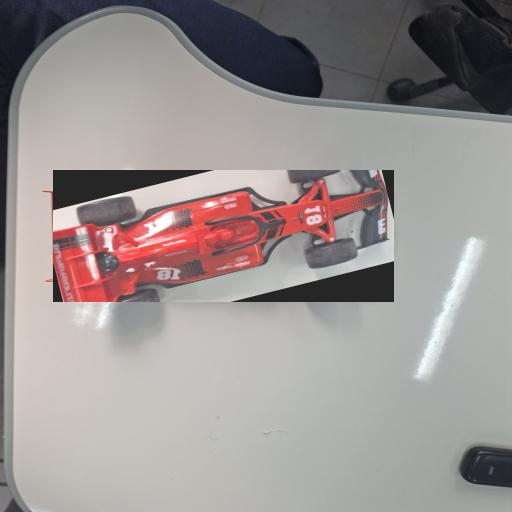carro: (53, 170, 394, 302)
